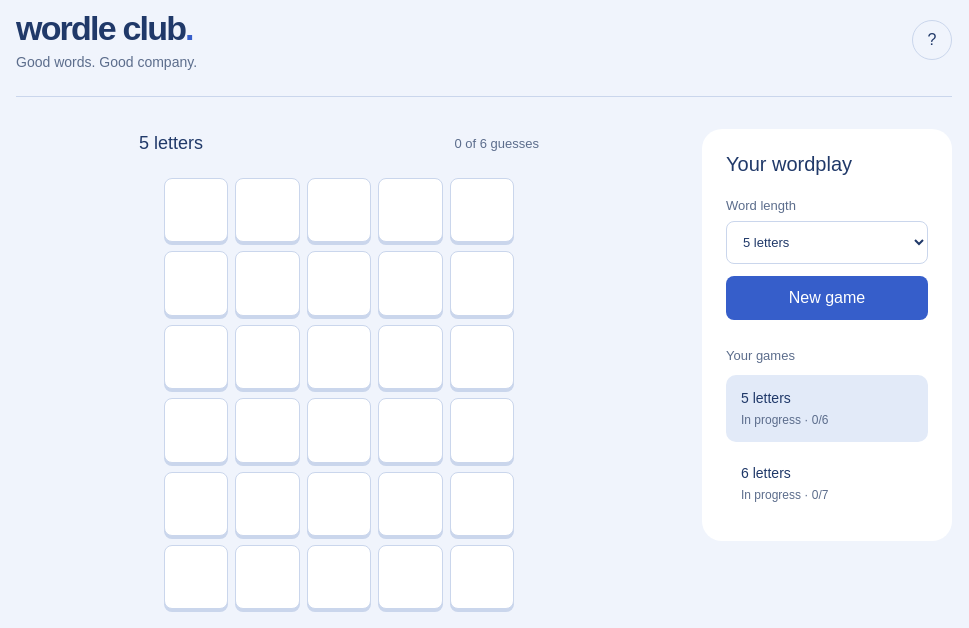
Test: a guess resolving after switching games does not touch the new game
Check: the heading "5 letters" is shown, box [139,133,203,154]
Press c
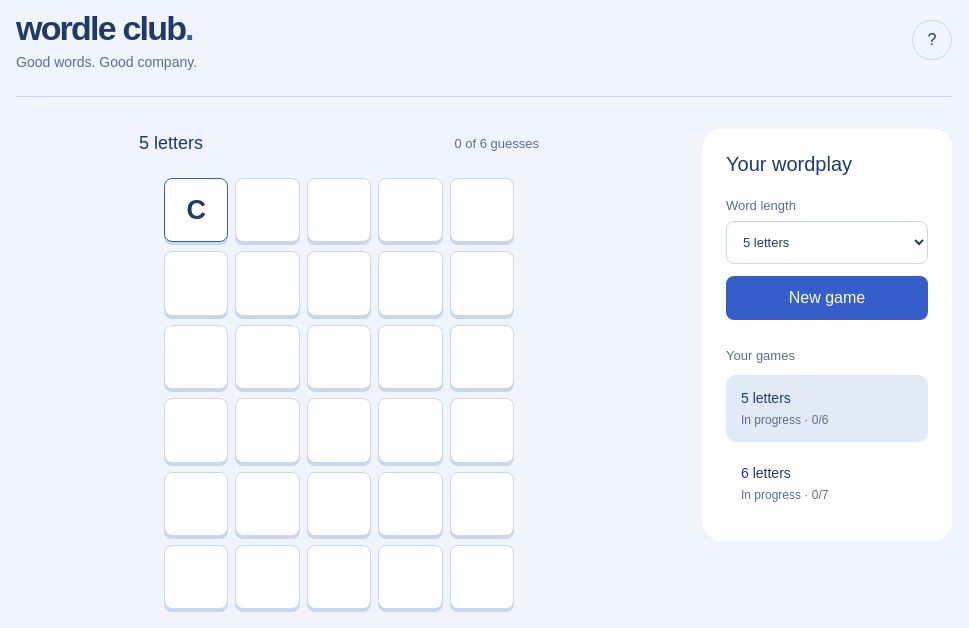
Press r
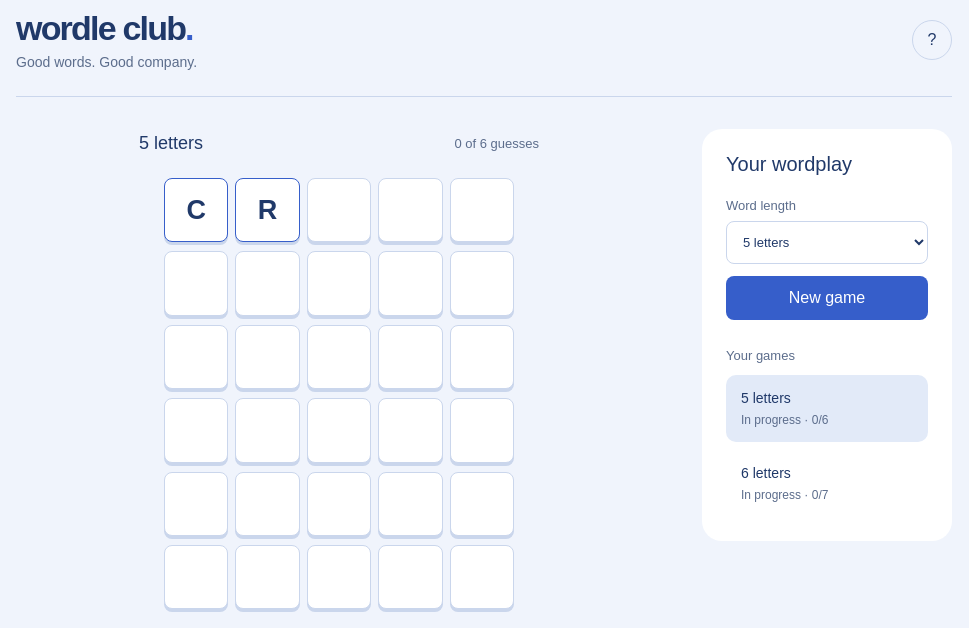
Press a
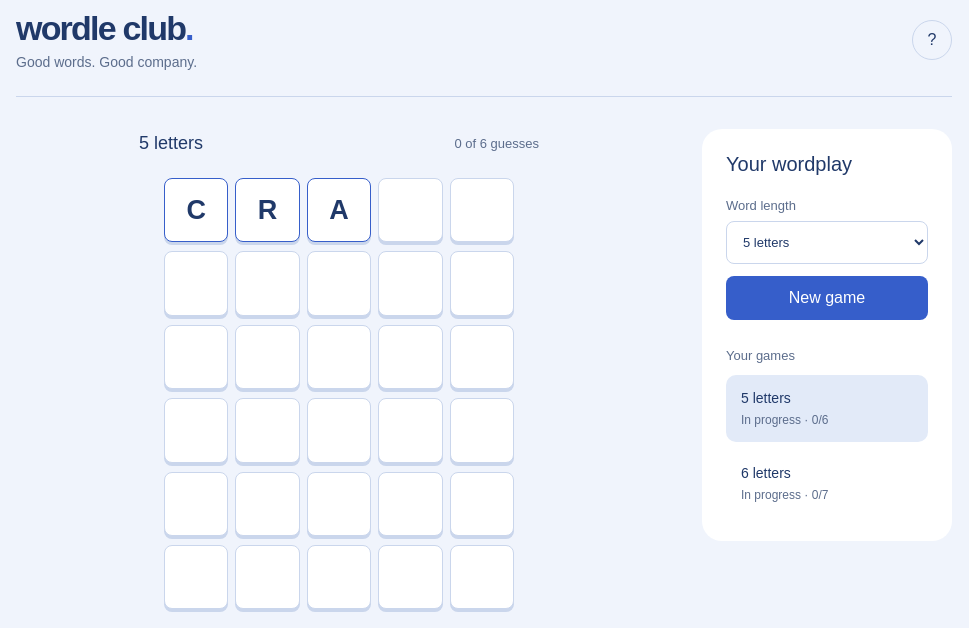
Press n
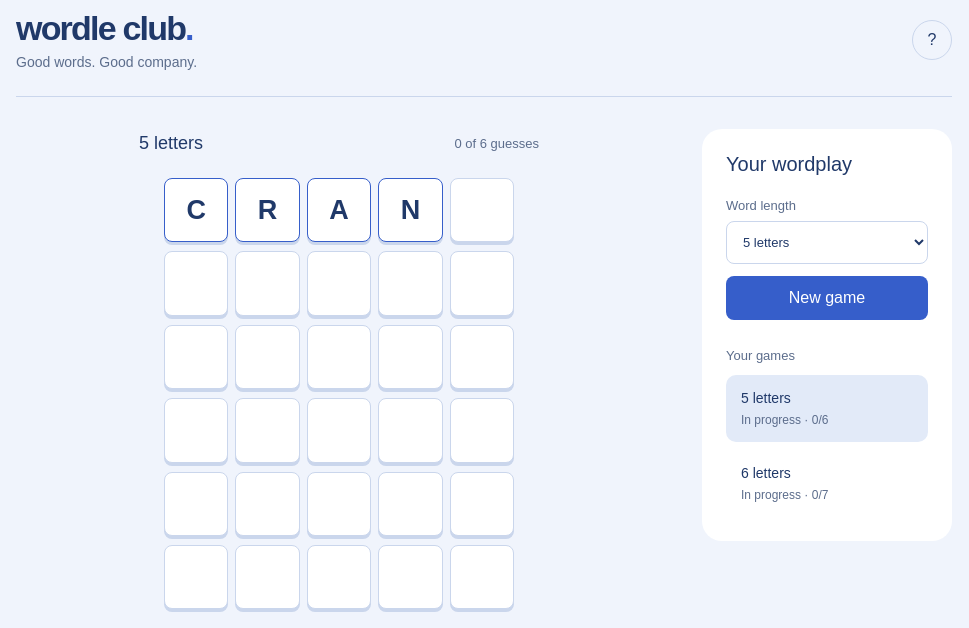
Press e
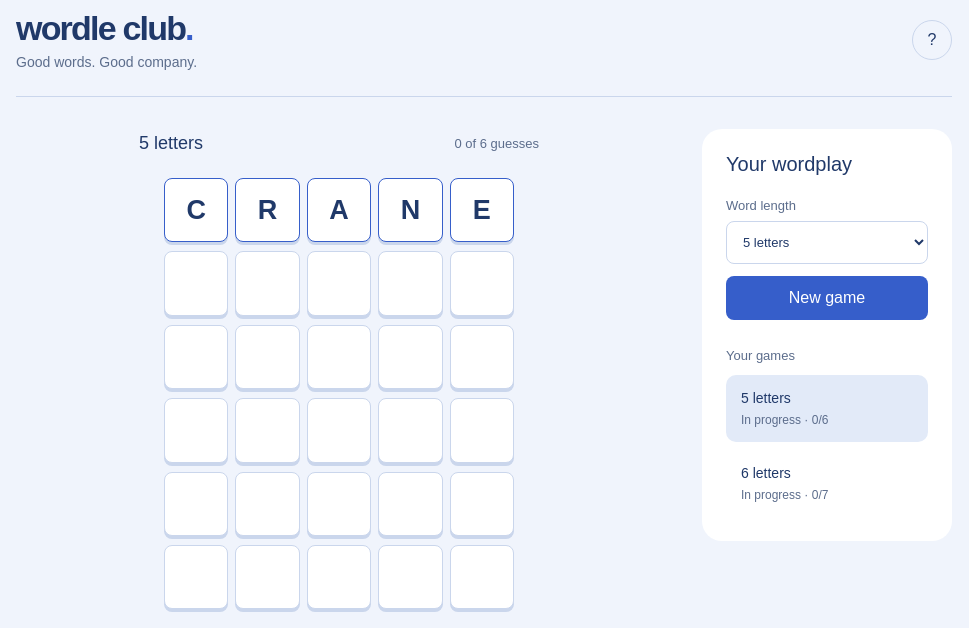
Press Enter
Click the button "6 letters In progress · 0/7" at (827, 484), box [726,450,928,517]
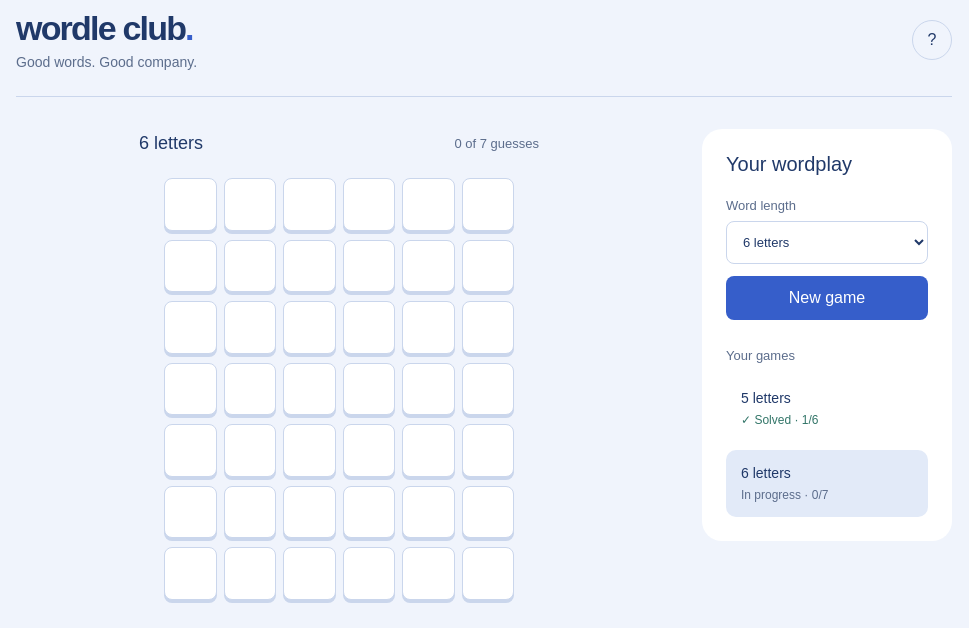
Check: the heading "6 letters" is shown, box [139,133,203,154]
Check: the number of pictures with class "tile" is 42
